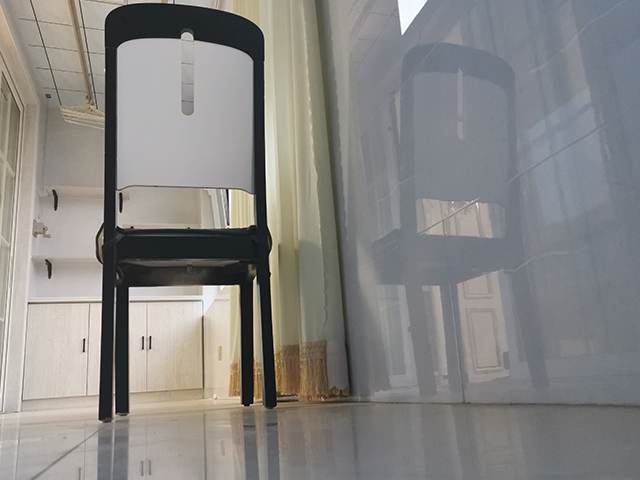cabinet: (17, 293, 206, 415)
curtain: (225, 1, 356, 403)
stool: (94, 1, 279, 424)
